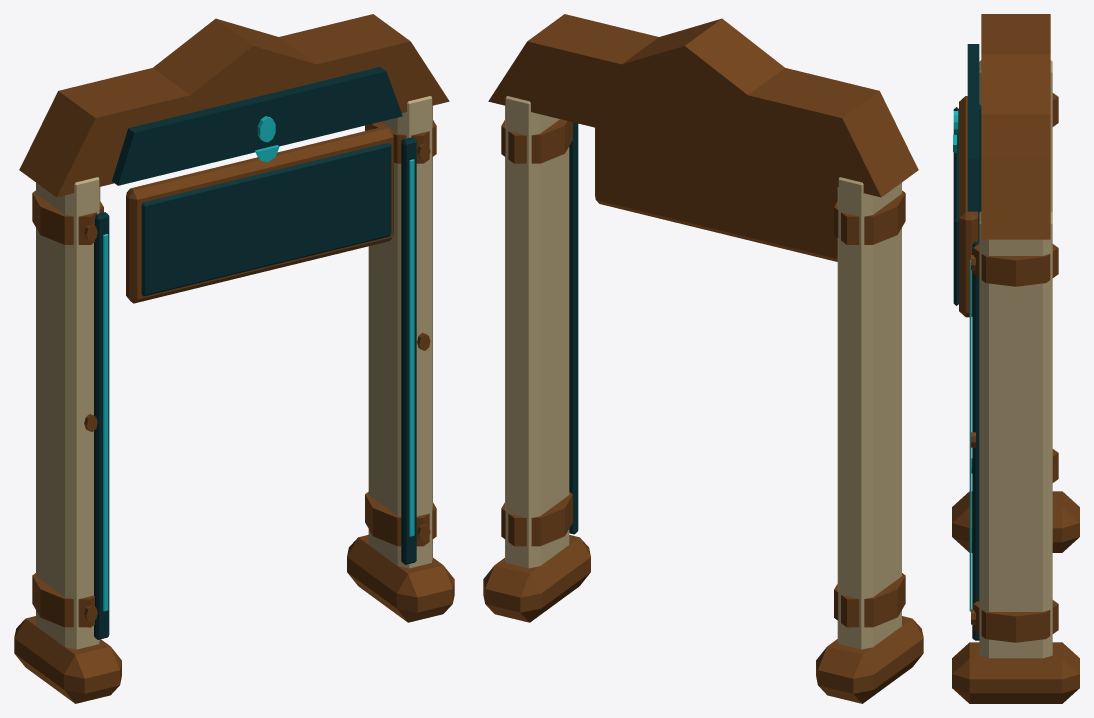
Rendered from gate-recruit.glb.
3 views of the same model, side by side, from view 1: azimuth 30°, elevation 25°; view 2: azimuth 150°, elevation 25°; view 3: azimuth 270°, elevation 25° (orthographic). The views are drawn at different scales.
Parts seen in each view (by area): view 1: gate-recruit; view 2: gate-recruit; view 3: gate-recruit.
Boxes of the visible parts, x1,y1,x2,y2 form: gate-recruit: (14,14,454,703); gate-recruit: (483,14,923,703); gate-recruit: (952,14,1079,703).
Bounding box in the file's own units: 2.18 × 3.23 × 0.66.
Materials: 1 (1 with a texture image).
